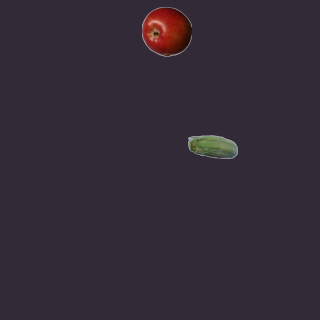Apple Braeburn: (141, 6, 191, 56)
Corn Husk: (187, 123, 237, 173)
